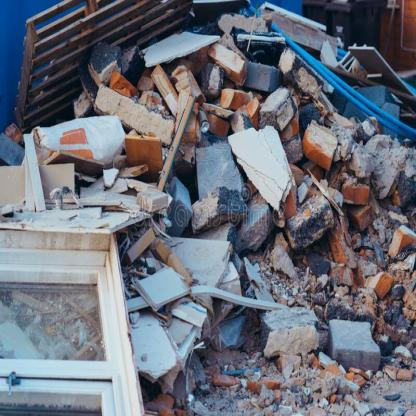brick: (2, 9, 415, 414)
